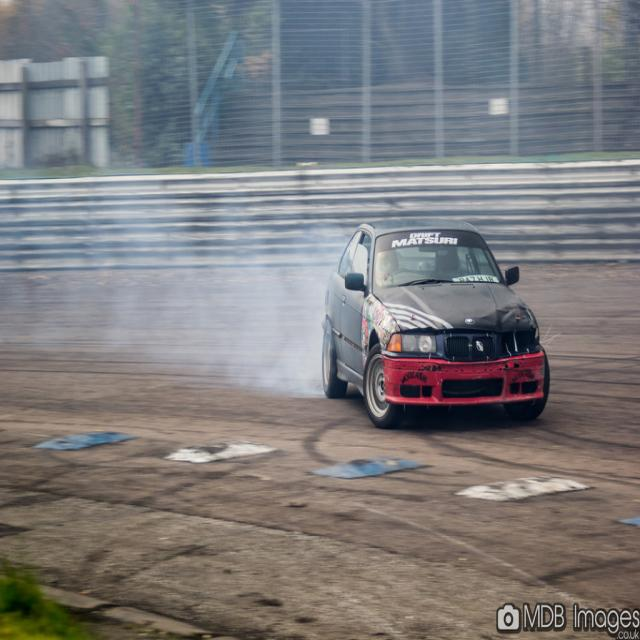car: (320, 218, 551, 427)
